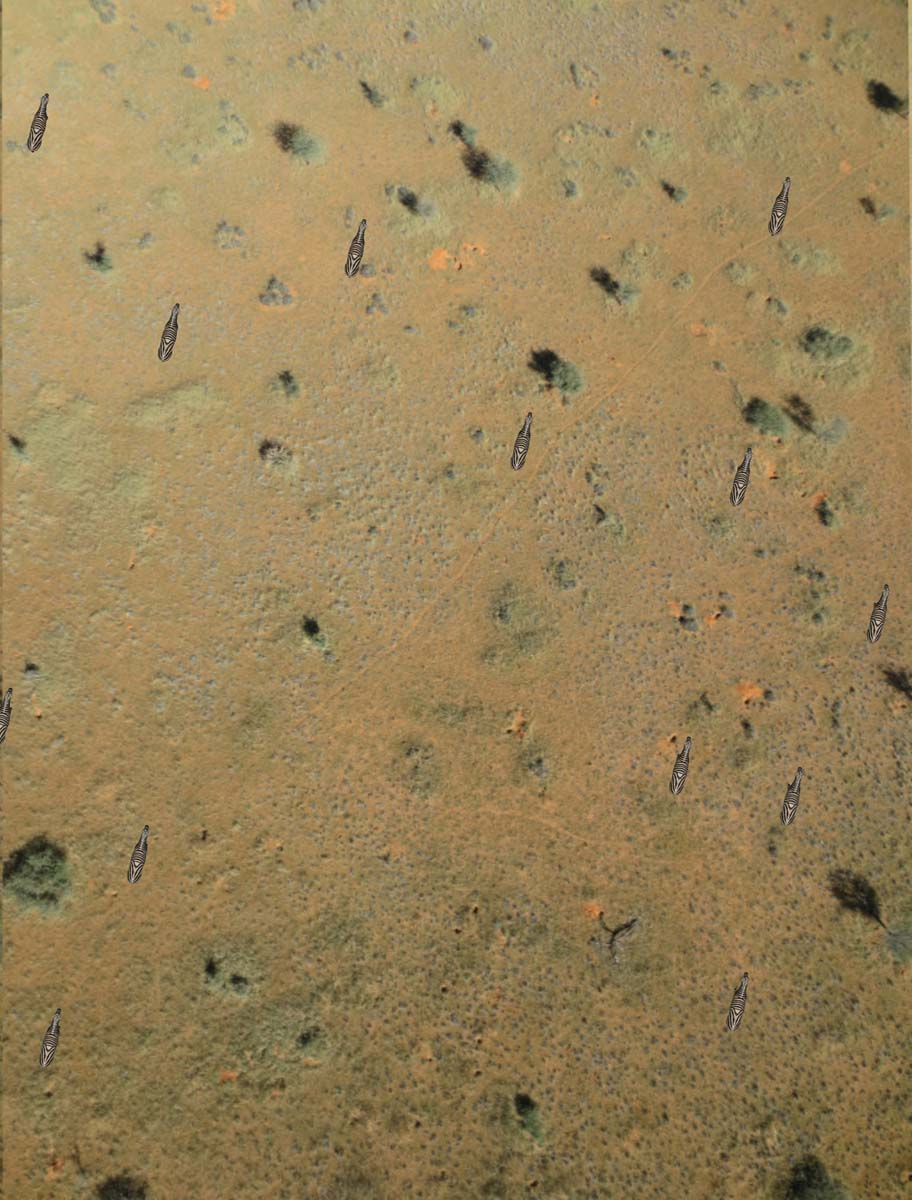zebra: (729, 439, 759, 510), (865, 577, 895, 648), (767, 171, 797, 242), (666, 731, 696, 802), (779, 764, 809, 835), (722, 968, 752, 1039), (36, 1005, 66, 1076), (122, 824, 152, 895), (155, 292, 185, 363), (342, 215, 372, 286), (508, 403, 538, 474), (24, 89, 54, 160), (1, 682, 15, 754)
